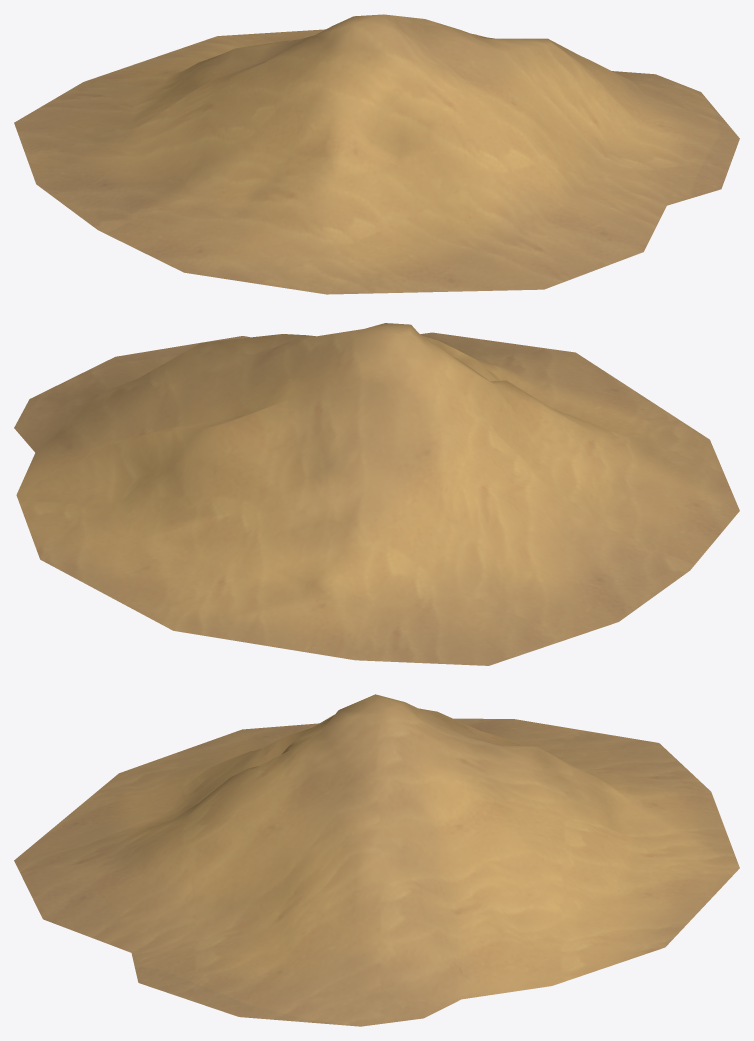
The model's file is Area_12_28.fbx.
3 renders of one model, top to bottom at view 1: azimuth 30°, elevation 25°; view 2: azimuth 150°, elevation 25°; view 3: azimuth 270°, elevation 25°, orthographic. The views are drawn at different scales.
Parts seen in each view (by area): view 1: Area_12_28; view 2: Area_12_28; view 3: Area_12_28.
Boxes of the visible parts, x1,y1,x2,y2 form: Area_12_28: (14, 14, 739, 294); Area_12_28: (14, 323, 739, 665); Area_12_28: (14, 694, 739, 1026).
Size of the model in its own units: 2690 by 628 by 2679.
1 material, 1 textured.
